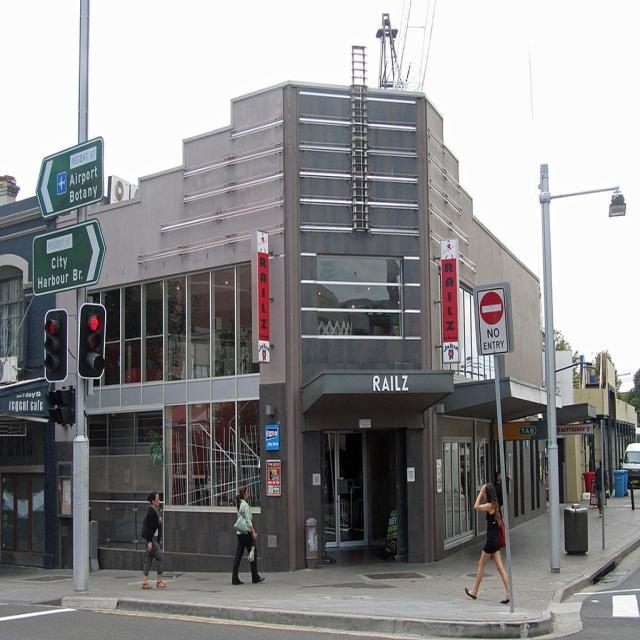traffic light: (85, 311, 104, 369), (479, 291, 504, 326), (44, 319, 61, 370)
